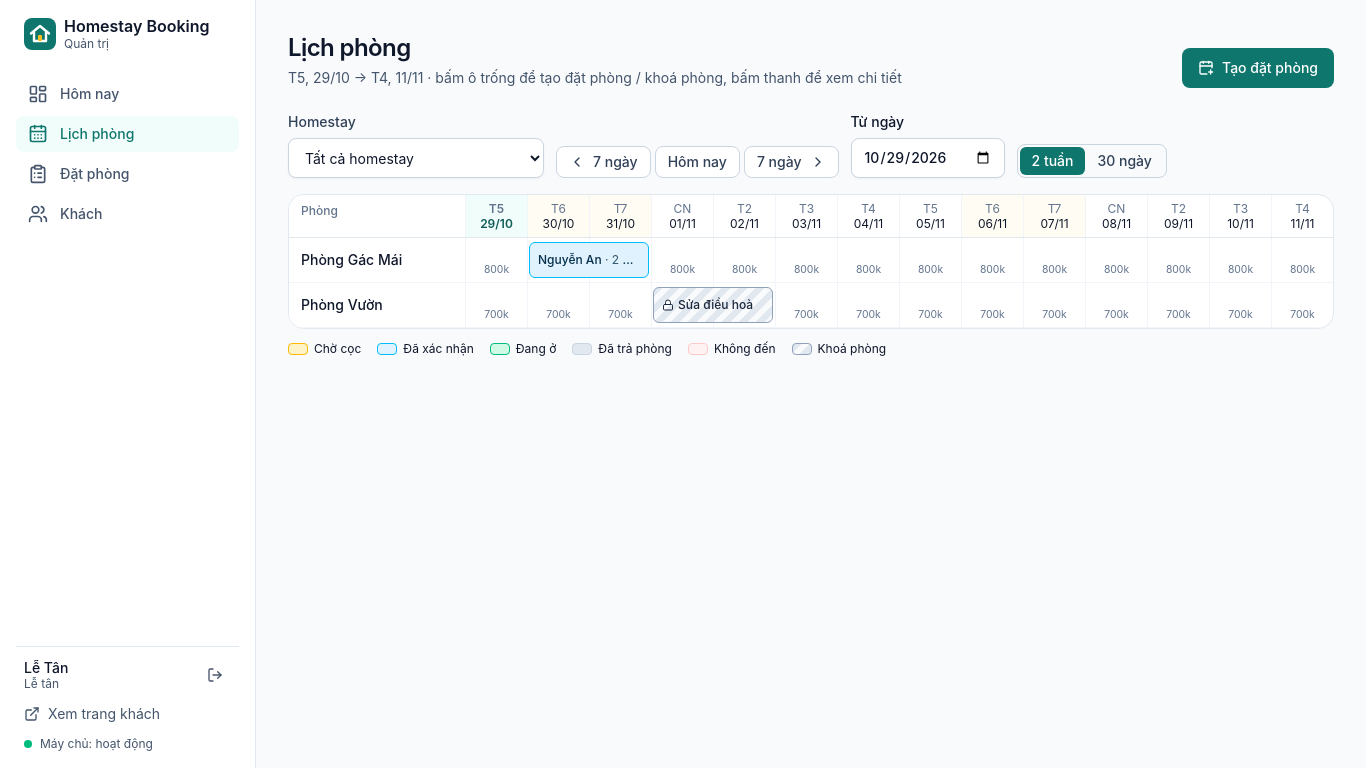
Test case: lịch phòng › vẽ thanh đặt phòng + khoá; bấm ô trống → tạo đặt phòng điền sẵn phòng + ngày, hoặc khoá phòng
This screenshot has width=1366, height=768.
Expected: the button "Sửa điều hoà" is shown, [653,287,773,323]
Click the 4th button "800k": point(806, 260) [776,238,837,282]
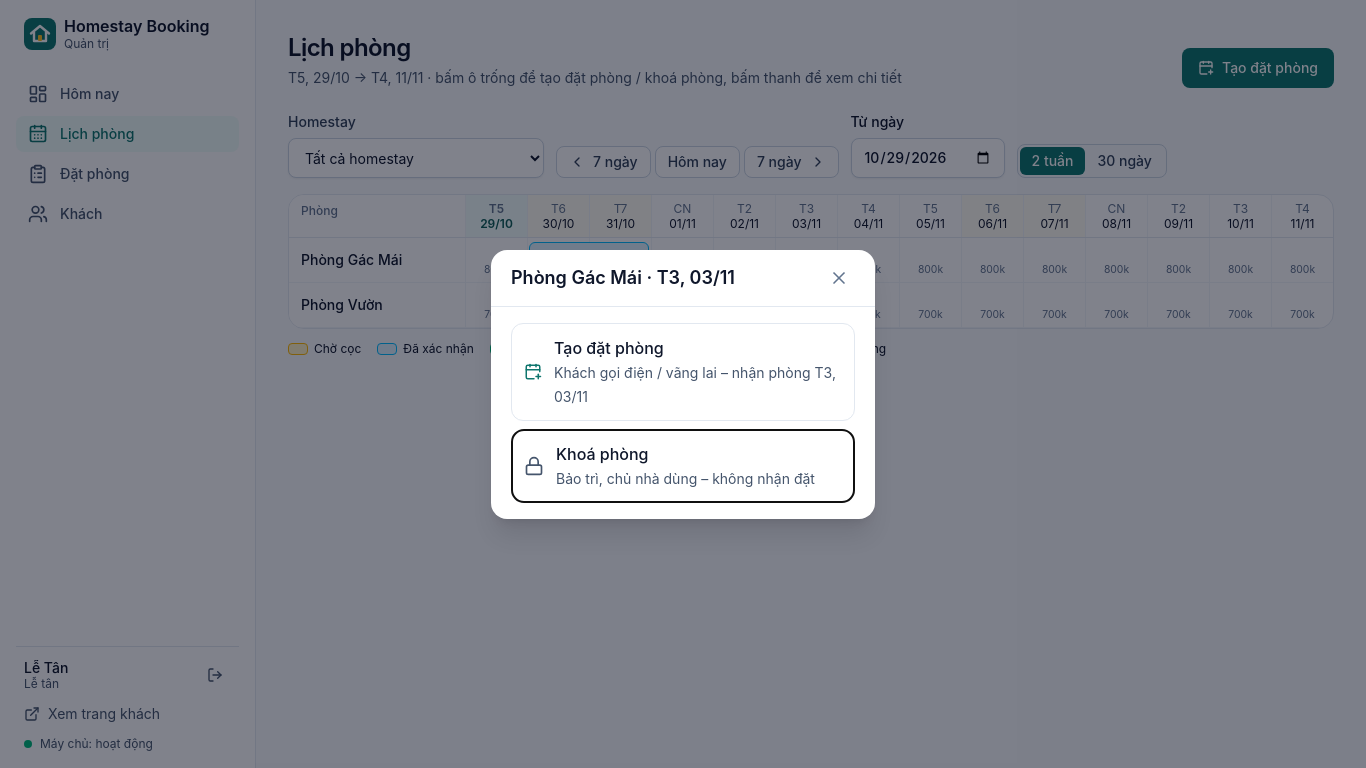
Click the button "Khoá phòng Bảo trì, chủ nhà dùng – không nhận đặt": point(602, 454) [511,428,855,502]
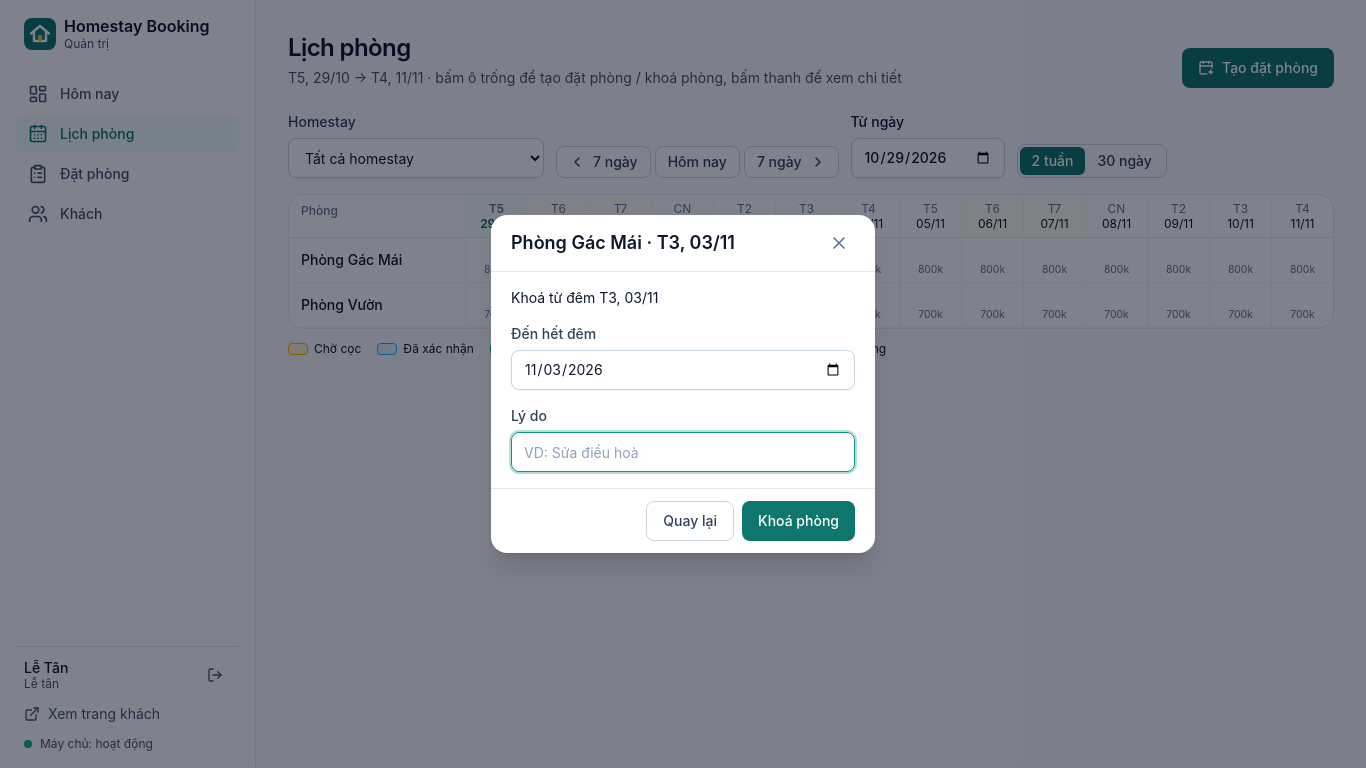
In the field labelled "Lý do": point(683, 452) [511,432,855,472], type "Sơn lại tường"
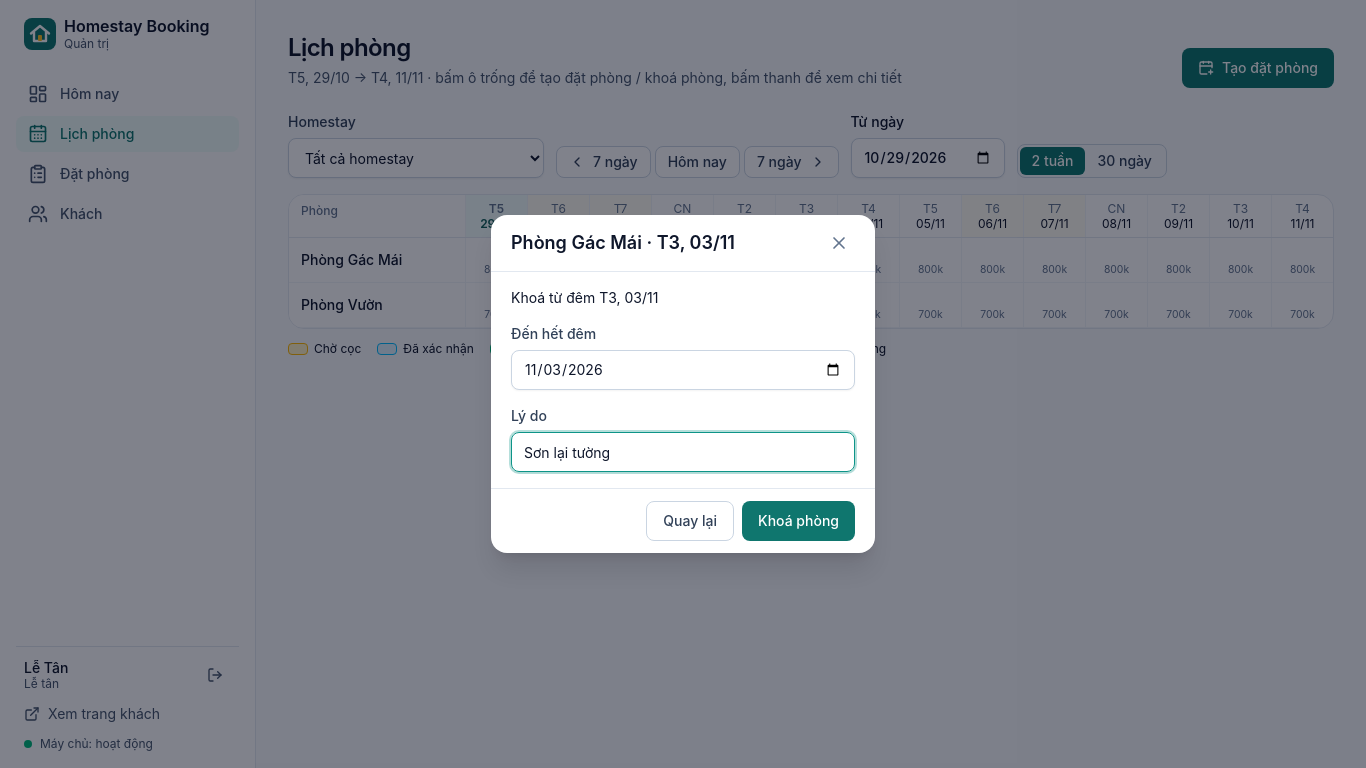
Click the button "Khoá phòng": point(798, 521) [742,501,855,541]
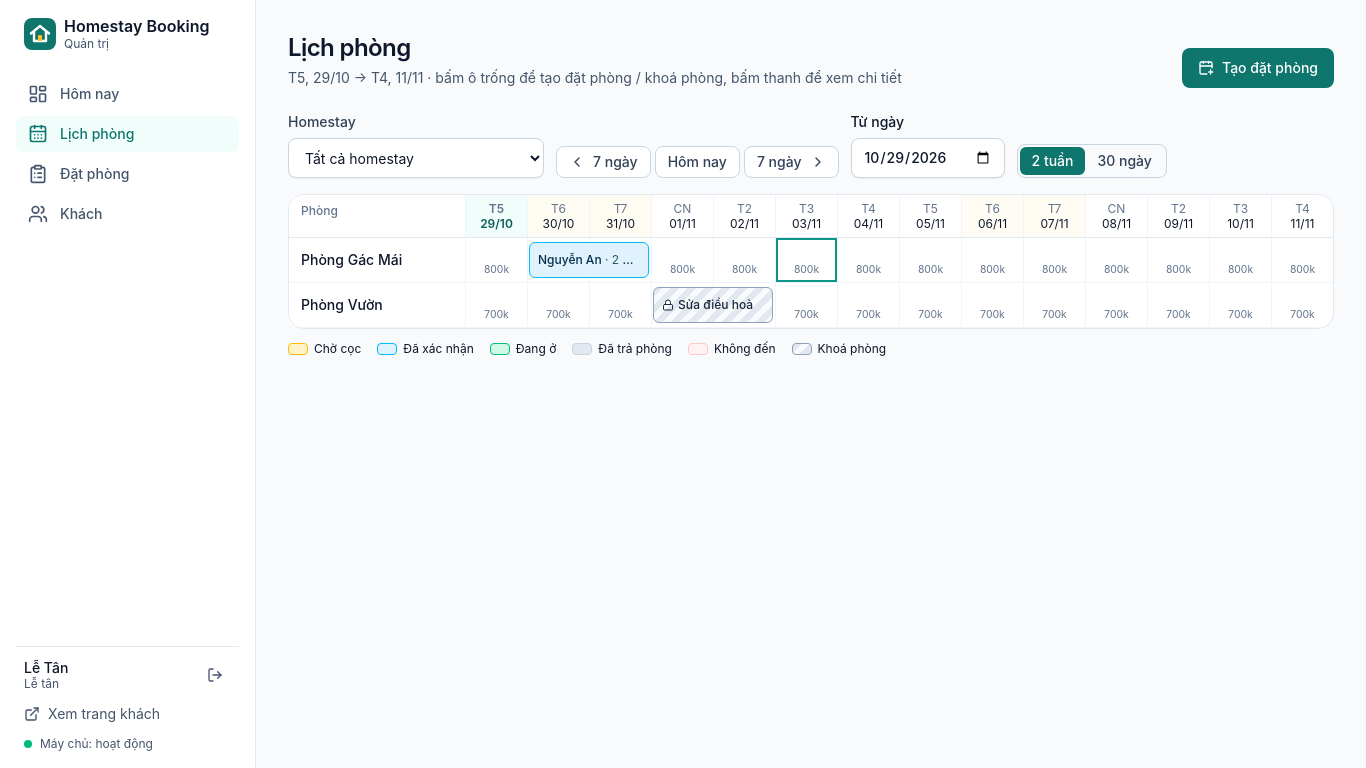
Result: the dialog is gone
